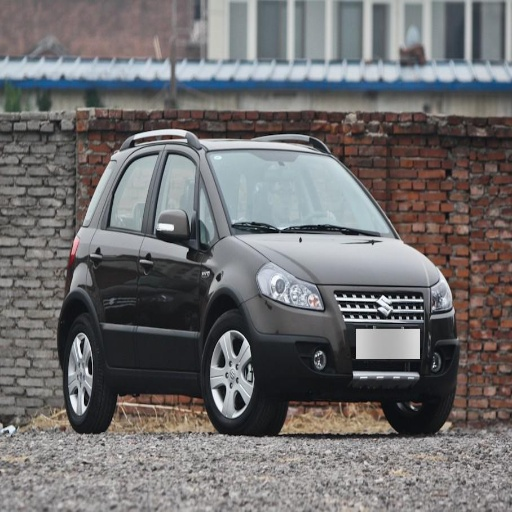front_bumper: (247, 284, 456, 395)
front_right_door: (137, 142, 219, 370)
front_right_light: (257, 265, 326, 312)
